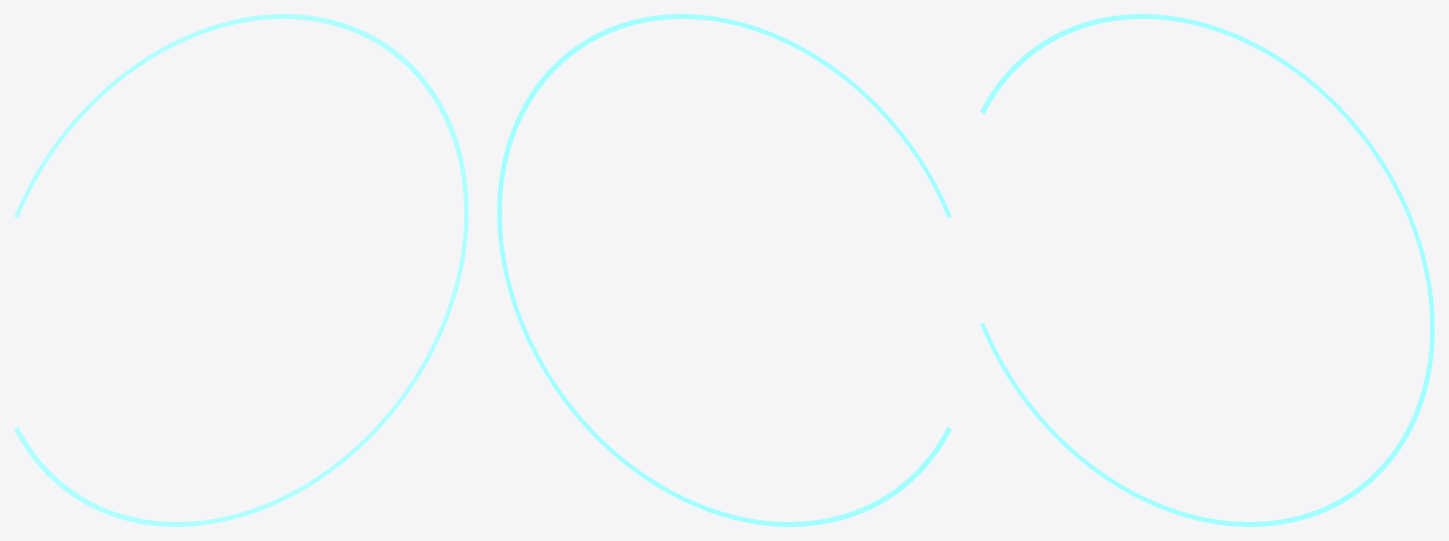
Rendered from gate_rune.glb.
The picture shows the model from 3 angles, left to right: view 1: azimuth 30°, elevation 25°; view 2: azimuth 150°, elevation 25°; view 3: azimuth 330°, elevation 25°; orthographic projection.
Visible parts, largest first — view 1: gate_rune; view 2: gate_rune; view 3: gate_rune.
Boxes of the visible parts, x1=… form: gate_rune: x1=14, y1=14, x2=468, y2=526; gate_rune: x1=497, y1=14, x2=951, y2=526; gate_rune: x1=980, y1=14, x2=1434, y2=526.
Size of the model in its own units: 26.97 by 28.32 by 5.1e-17.
